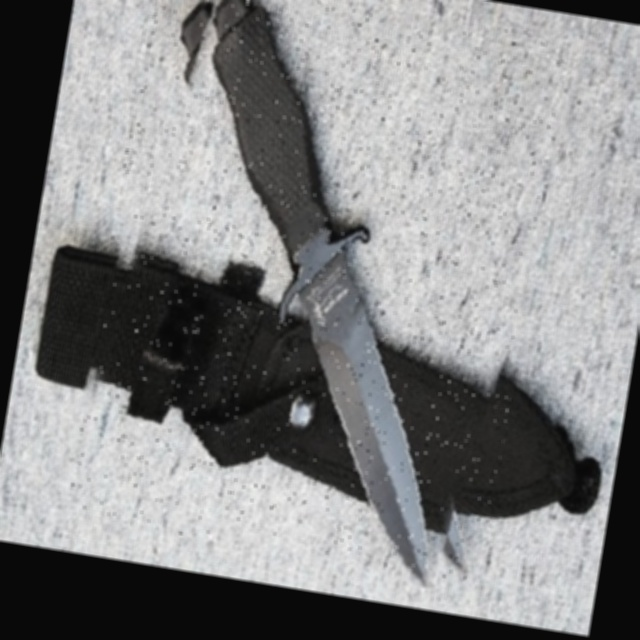Sharp-Object: (68, 0, 572, 586)
